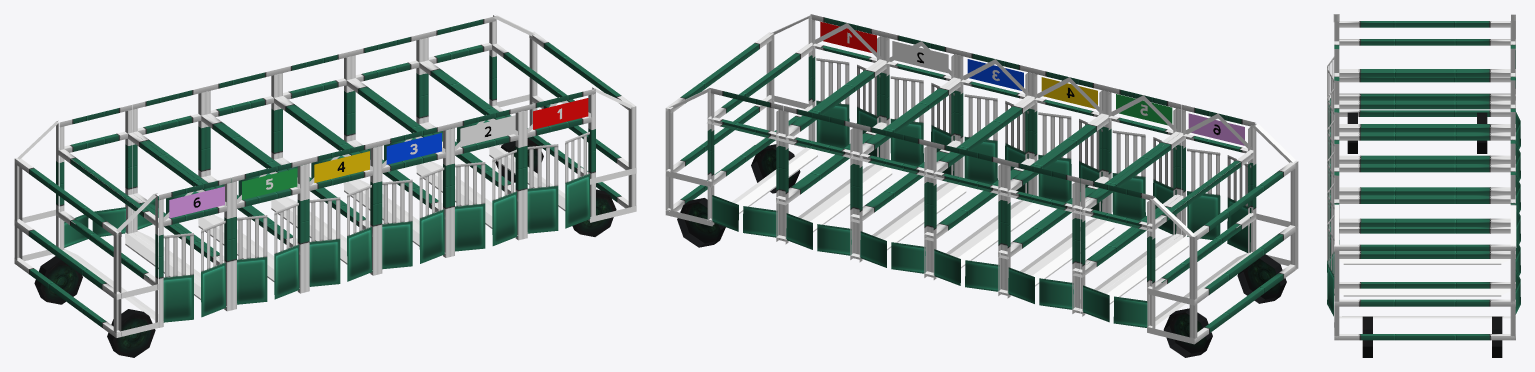
The model's file is startinggrid-1.fbx.
3 renders of one model, left to right at view 1: azimuth 30°, elevation 25°; view 2: azimuth 150°, elevation 25°; view 3: azimuth 270°, elevation 25°, orthographic. The views are drawn at different scales.
Parts seen in each view (by area): view 1: StartBlock1.020, StartBlock1.019, StartBlock1.014, StartBlock1.008, StartBlock1.007, StartBlock1.013, StartBlock1, StartBlock1.003, StartBlock1.011, StartBlock1.004, StartBlock1.010, StartBlock1.005 (+14 smaller); view 2: StartBlock1.014, StartBlock1.020, StartBlock1.008, StartBlock1.019, StartBlock1.013, StartBlock1.007, StartBlock1, StartBlock1.003, StartBlock1.018, StartBlock1.012, StartBlock1.002, StartBlock1.009 (+14 smaller); view 3: StartBlock1.003, StartBlock1, StartBlock1.007, StartBlock1.020, StartBlock1.014, StartBlock1.013, StartBlock1.008, StartBlock1.019, StartBlock1.002, StartBlock1.004, StartBlock1.006, StartBlock1.018 (+8 smaller).
Boxes of the visible parts, x1=… form: StartBlock1.020: x1=14, y1=120, x2=158, y2=357; StartBlock1.019: x1=58, y1=104, x2=231, y2=327; StartBlock1.014: x1=132, y1=87, x2=304, y2=310; StartBlock1.008: x1=278, y1=51, x2=450, y2=274; StartBlock1.007: x1=351, y1=33, x2=523, y2=256; StartBlock1.013: x1=205, y1=69, x2=377, y2=292; StartBlock1: x1=424, y1=16, x2=595, y2=238; StartBlock1.003: x1=488, y1=14, x2=636, y2=236; StartBlock1.011: x1=309, y1=197, x2=340, y2=286; StartBlock1.004: x1=527, y1=144, x2=558, y2=233; StartBlock1.010: x1=382, y1=179, x2=412, y2=269; StartBlock1.005: x1=455, y1=162, x2=485, y2=251; StartBlock1.014: x1=1003, y1=86, x2=1180, y2=313; StartBlock1.020: x1=1147, y1=123, x2=1298, y2=357; StartBlock1.008: x1=855, y1=50, x2=1032, y2=277; StartBlock1.019: x1=1077, y1=104, x2=1255, y2=332; StartBlock1.013: x1=929, y1=68, x2=1106, y2=295; StartBlock1.007: x1=781, y1=32, x2=958, y2=259; StartBlock1: x1=707, y1=14, x2=884, y2=241; StartBlock1.003: x1=665, y1=15, x2=813, y2=247; StartBlock1.018: x1=1187, y1=148, x2=1220, y2=239; StartBlock1.012: x1=1038, y1=112, x2=1071, y2=202; StartBlock1.002: x1=816, y1=58, x2=849, y2=148; StartBlock1.009: x1=964, y1=94, x2=997, y2=184; StartBlock1.003: x1=1334, y1=204, x2=1516, y2=357; StartBlock1: x1=1334, y1=179, x2=1520, y2=318; StartBlock1.007: x1=1334, y1=147, x2=1520, y2=275; StartBlock1.020: x1=1333, y1=14, x2=1515, y2=153; StartBlock1.014: x1=1334, y1=53, x2=1520, y2=181; StartBlock1.013: x1=1334, y1=84, x2=1520, y2=212; StartBlock1.008: x1=1334, y1=116, x2=1520, y2=244; StartBlock1.019: x1=1334, y1=21, x2=1520, y2=149; StartBlock1.002: x1=1327, y1=227, x2=1334, y2=316; StartBlock1.004: x1=1327, y1=214, x2=1334, y2=275; StartBlock1.006: x1=1327, y1=195, x2=1334, y2=272; StartBlock1.018: x1=1327, y1=69, x2=1334, y2=132.
Bounding box in the file's own units: 771 × 233 × 280.
2 materials, 2 textured.
